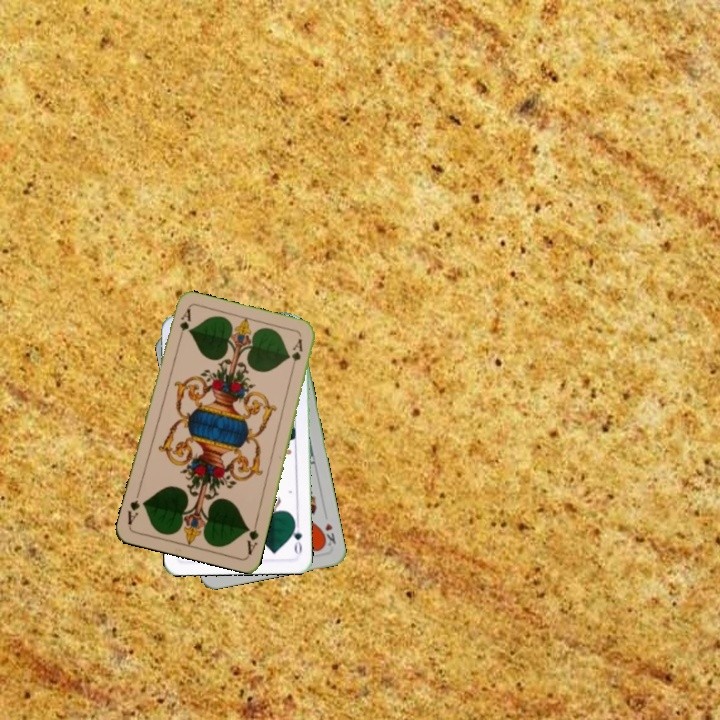GA: (242, 517, 261, 557), (174, 305, 193, 345)
GO: (288, 517, 305, 557)
HK: (317, 519, 338, 550)
